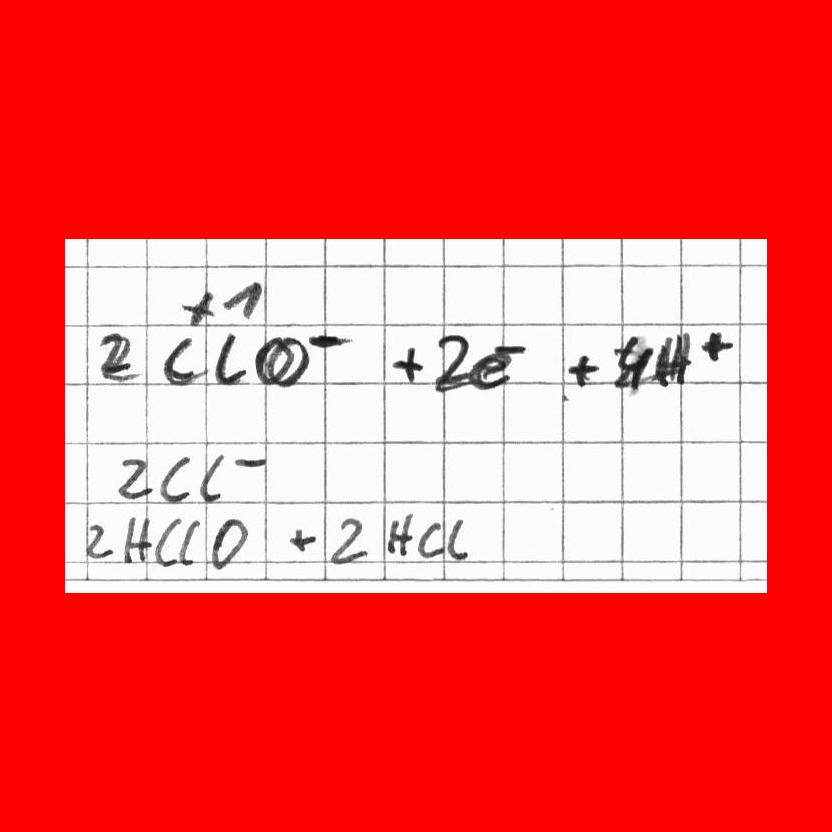Char: (253, 331, 309, 389), (431, 325, 472, 397), (162, 330, 207, 387), (654, 330, 696, 391), (615, 328, 651, 395), (327, 513, 370, 569), (96, 326, 137, 382), (211, 330, 248, 391), (467, 351, 514, 394), (210, 516, 247, 570), (113, 455, 156, 501), (223, 277, 268, 318), (561, 346, 603, 388), (160, 453, 193, 505), (153, 514, 183, 570), (697, 325, 736, 366), (198, 451, 227, 505), (121, 513, 150, 566), (80, 519, 116, 561), (304, 323, 354, 353), (184, 289, 217, 334), (385, 508, 412, 562), (389, 339, 422, 383), (416, 519, 445, 561), (179, 518, 202, 567), (286, 523, 320, 554), (445, 519, 469, 560), (230, 451, 269, 472), (490, 338, 529, 358)
